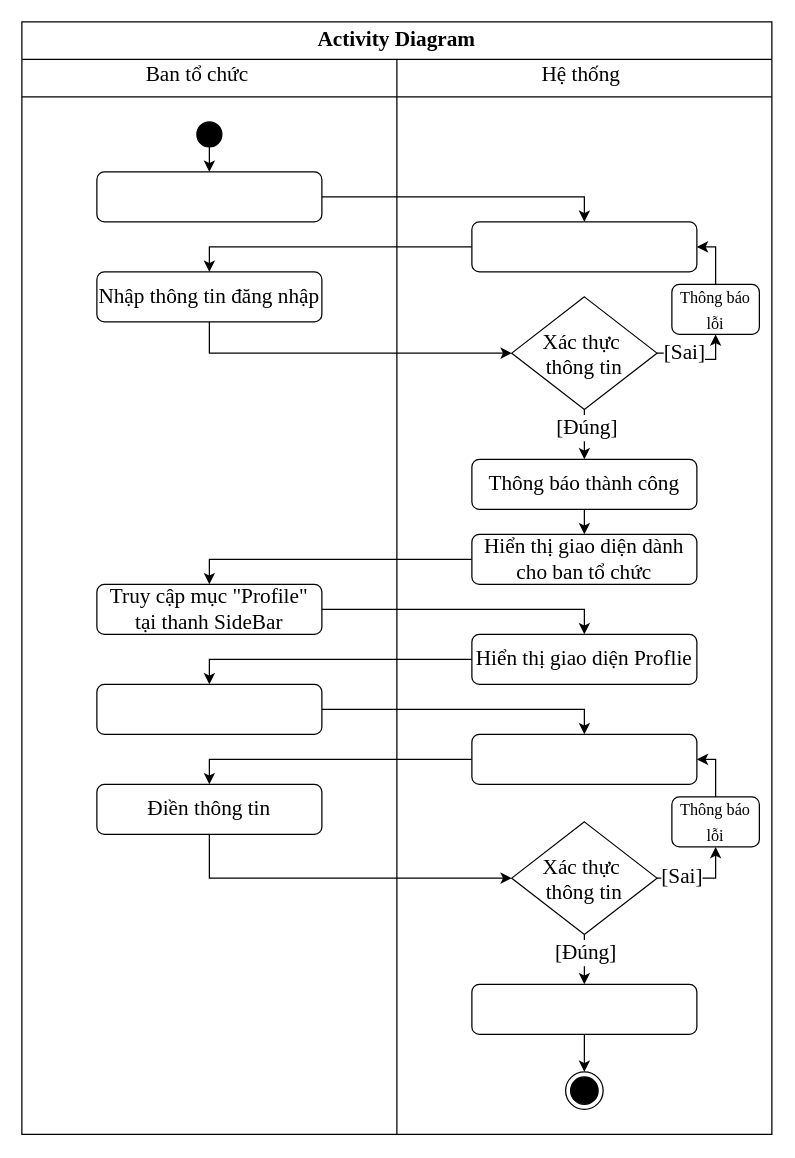
The diagram is 795 pixels wide and 1158 high, and some of its shapes have lost their labels. The centre of each missing label's shape, as x and y in pixels:
Hiển thị form đăng nhập: [584,246]
Hiển thị form đổi mật khẩu: [584,758]
Lưu lại các thay đổi: [584,1008]
Nhấn nút "Đổi mật khẩu": [209,708]
Truy cập nút đăng nhập: [209,196]
